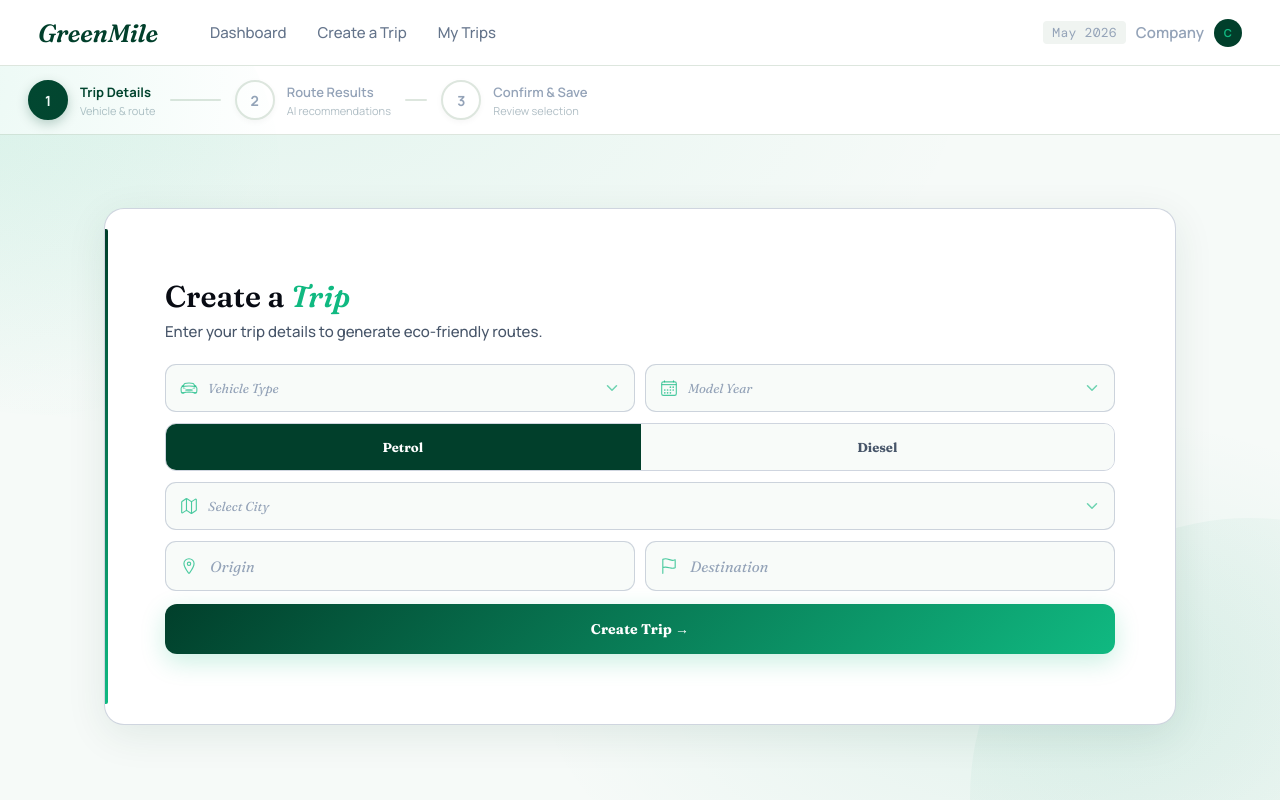
Test: TripScreen — Rendering & Initial State › year dropdown includes year 2025
The image size is (1280, 800).
Click the button "Model Year": (720, 388) [645,364,1115,412]
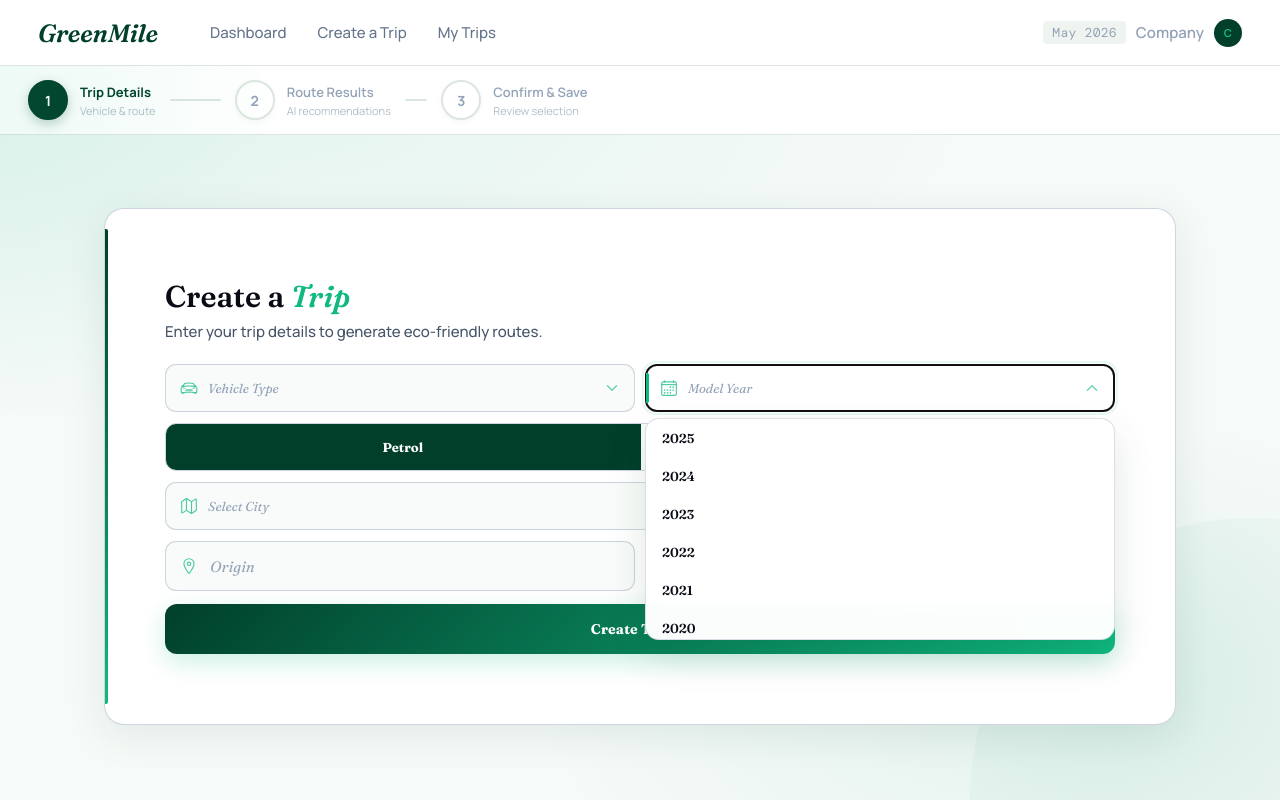
expect the button "2025" is shown: met, box [646,419,1114,457]
